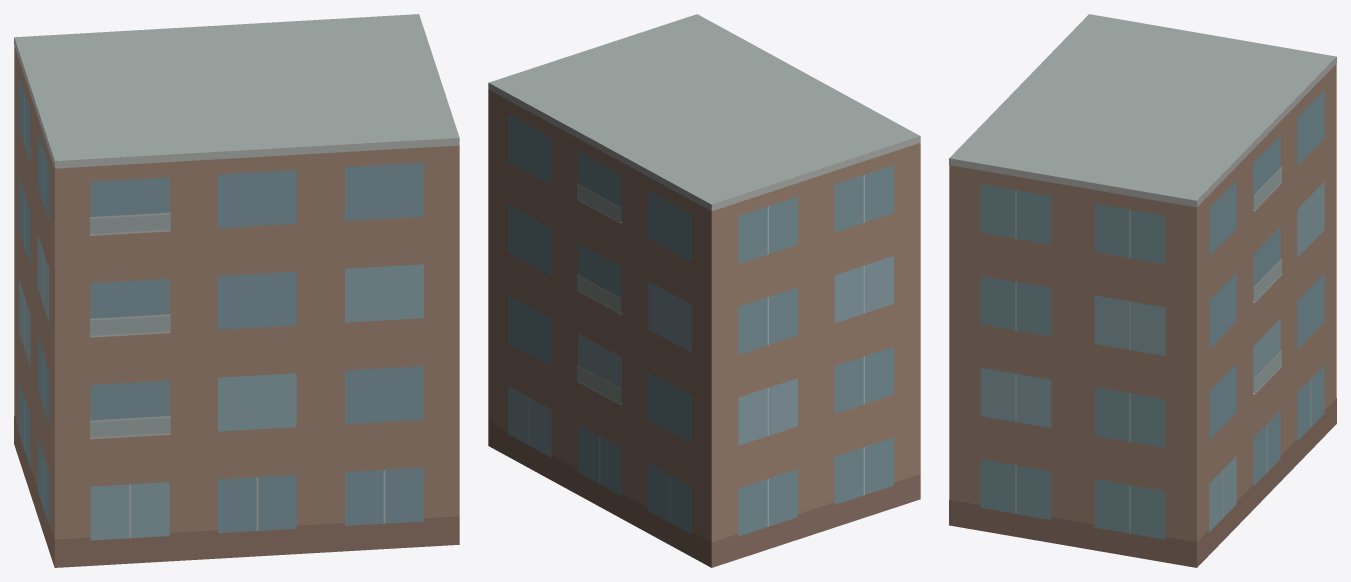
The model's file is survey-upis-32780436.glb.
The picture shows the model from 3 angles, left to right: view 1: azimuth 30°, elevation 25°; view 2: azimuth 150°, elevation 25°; view 3: azimuth 270°, elevation 25°; orthographic projection. The views are drawn at different scales.
Parts seen in each view (by area): view 1: survey-upis-32780436.tmp; view 2: survey-upis-32780436.tmp; view 3: survey-upis-32780436.tmp.
Boxes of the visible parts, <box> form: survey-upis-32780436.tmp: <box>14,14,459,567</box>; survey-upis-32780436.tmp: <box>488,14,920,567</box>; survey-upis-32780436.tmp: <box>949,14,1336,567</box>.
Bounding box in the file's own units: 14.52 × 13.3 × 12.74.
